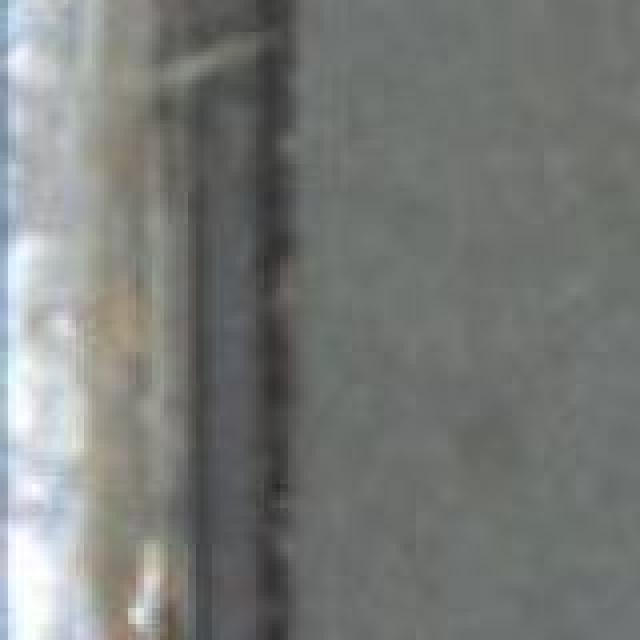inductor: (84, 0, 640, 640)
